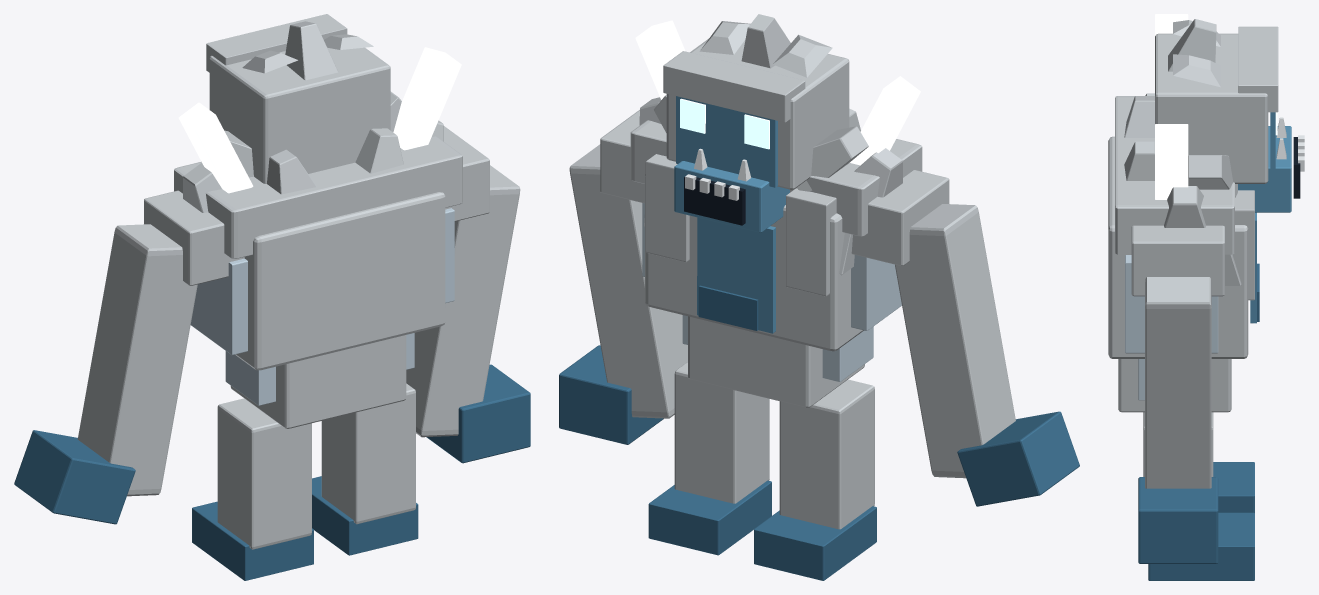
Rendered from yeti.glb.
3 renders of one model, left to right at view 1: azimuth 30°, elevation 25°; view 2: azimuth 150°, elevation 25°; view 3: azimuth 270°, elevation 25°, orthographic.
Visible parts, largest first — view 1: body, arm.R, head, arm.L, leg.FR, leg.FL; view 2: body, head, arm.R, arm.L, leg.FR, leg.FL; view 3: body, arm.L, head, leg.FL, leg.FR.
Part boxes in pixels (box(x1,y1,x2,y2)): body: box(144, 47, 489, 428); arm.R: box(14, 224, 197, 524); head: box(206, 14, 401, 183); arm.L: box(406, 165, 530, 463); leg.FR: box(192, 398, 313, 580); leg.FL: box(312, 383, 418, 555); body: box(600, 20, 949, 407); head: box(654, 14, 868, 232); arm.R: box(895, 204, 1079, 506); arm.L: box(559, 144, 687, 444); leg.FR: box(754, 379, 876, 580); leg.FL: box(648, 362, 771, 555); body: box(1108, 14, 1259, 412); arm.L: box(1138, 277, 1218, 563); head: box(1155, 19, 1304, 212); leg.FL: box(1143, 412, 1254, 580); leg.FR: box(1213, 462, 1254, 512).
Size of the model in its own units: 0.966 by 1 by 0.3446.
